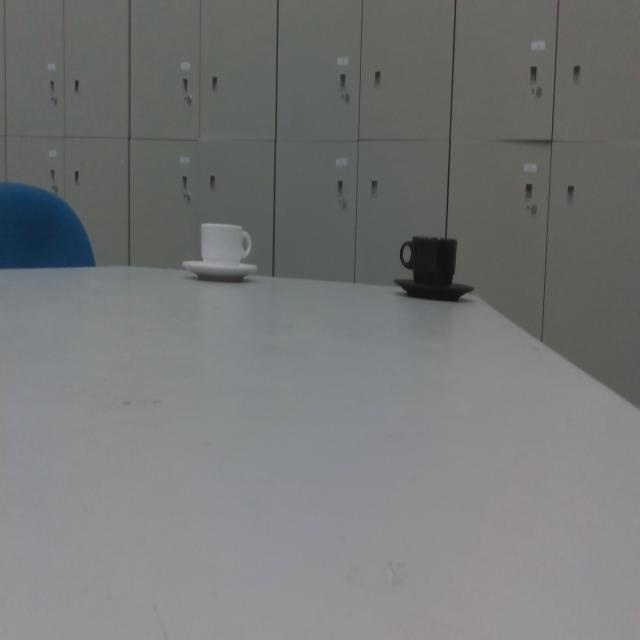black: (392, 233, 475, 301)
white: (181, 221, 260, 283)
